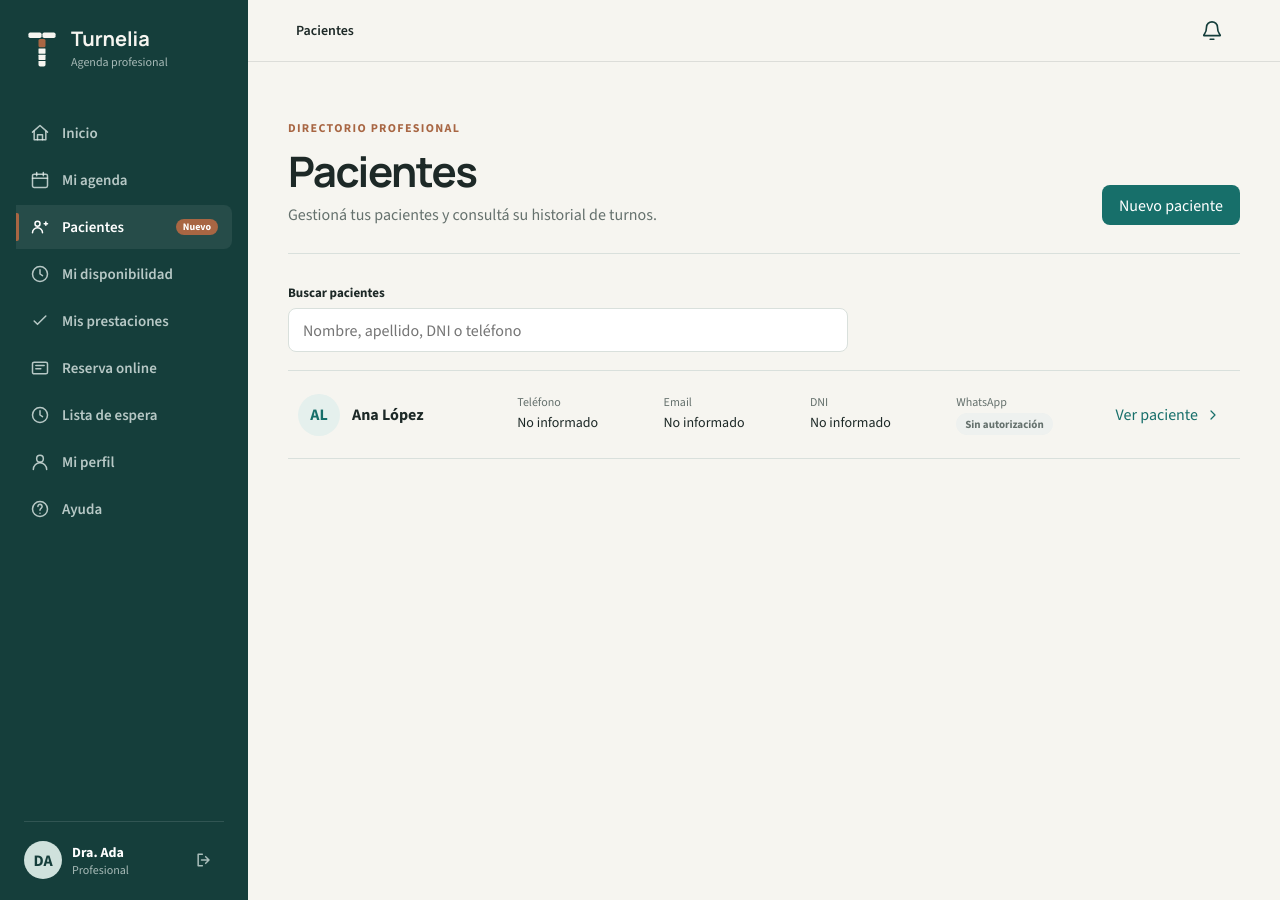
Test case: Pacientes profesional › lista, busca y abre detalle con historial
Check: the text "Ana López" is shown, box [352,404,424,425]
Step 1. Type "Ana" into the field labelled "Buscar pacientes" → (568, 330), box [288,308,848,352]
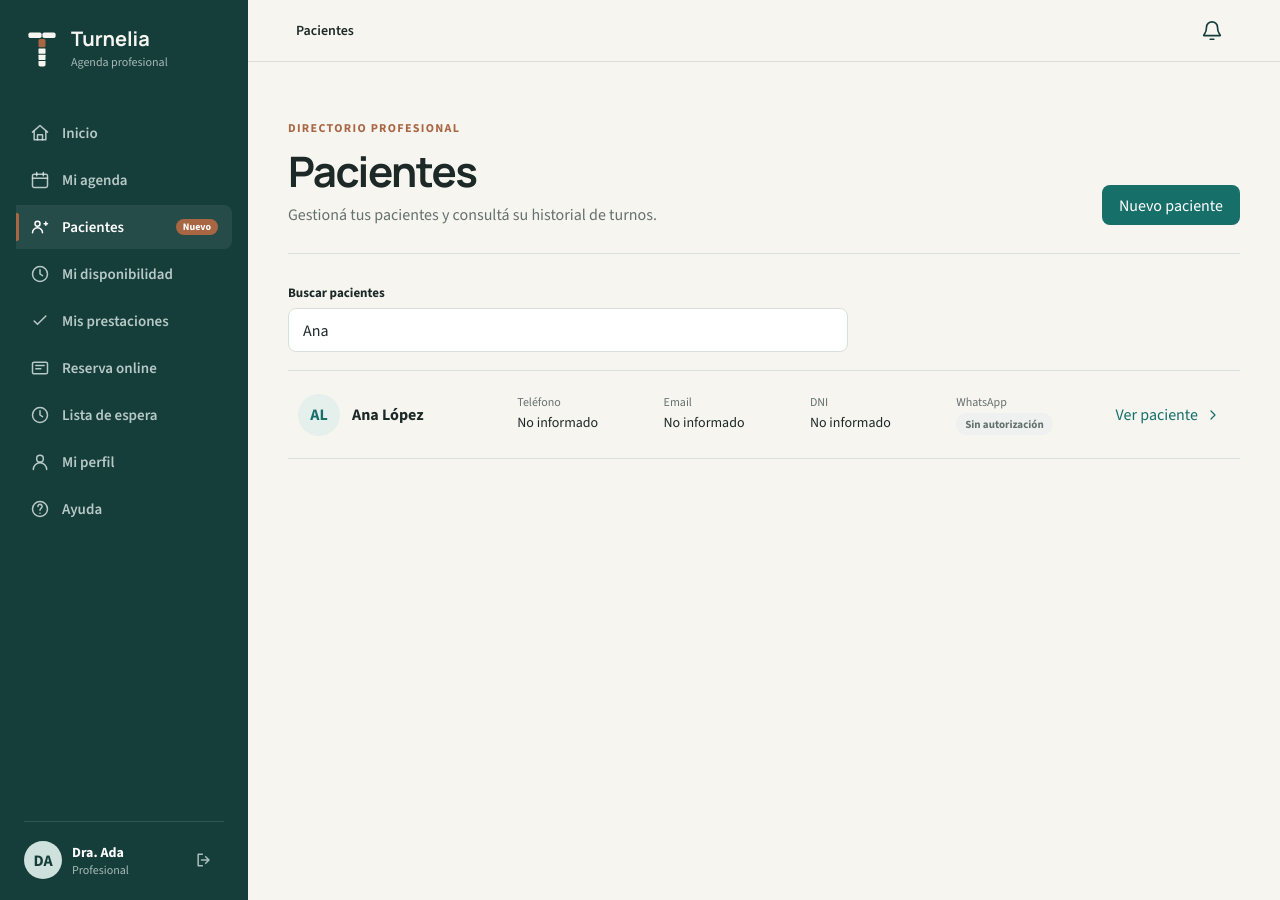
Step 2. Click the button "Ver paciente" → (1168, 414), box [1106,398,1230,432]
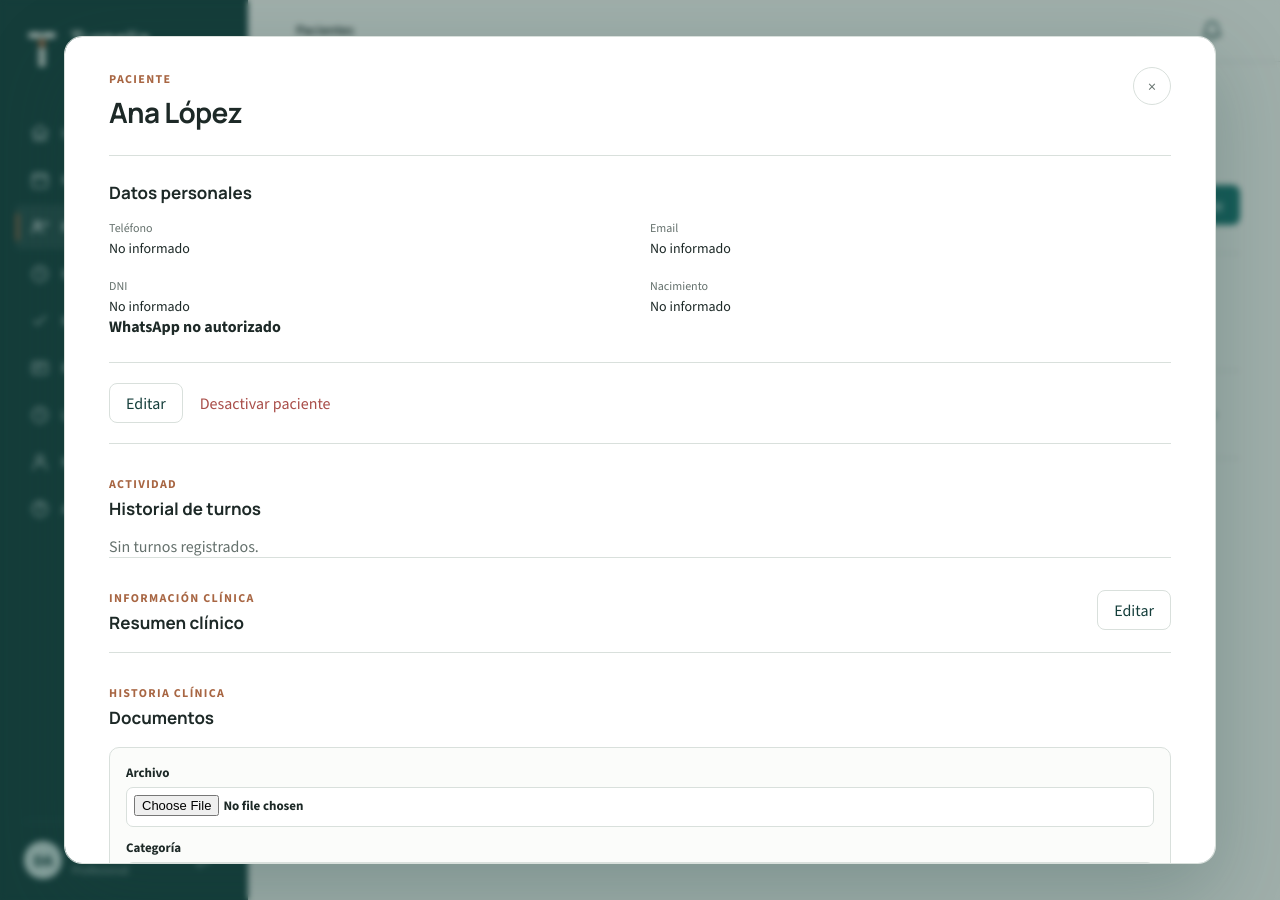
Check: the heading "Historial de turnos" is shown, box [109,497,261,520]
